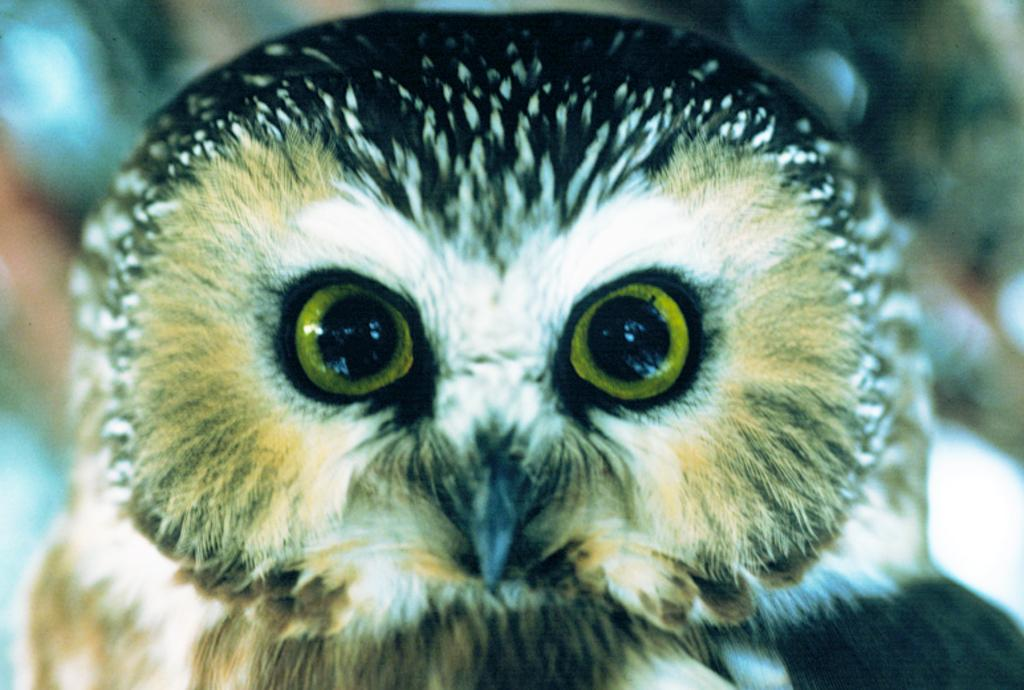Owl: (10, 77, 1018, 689)
